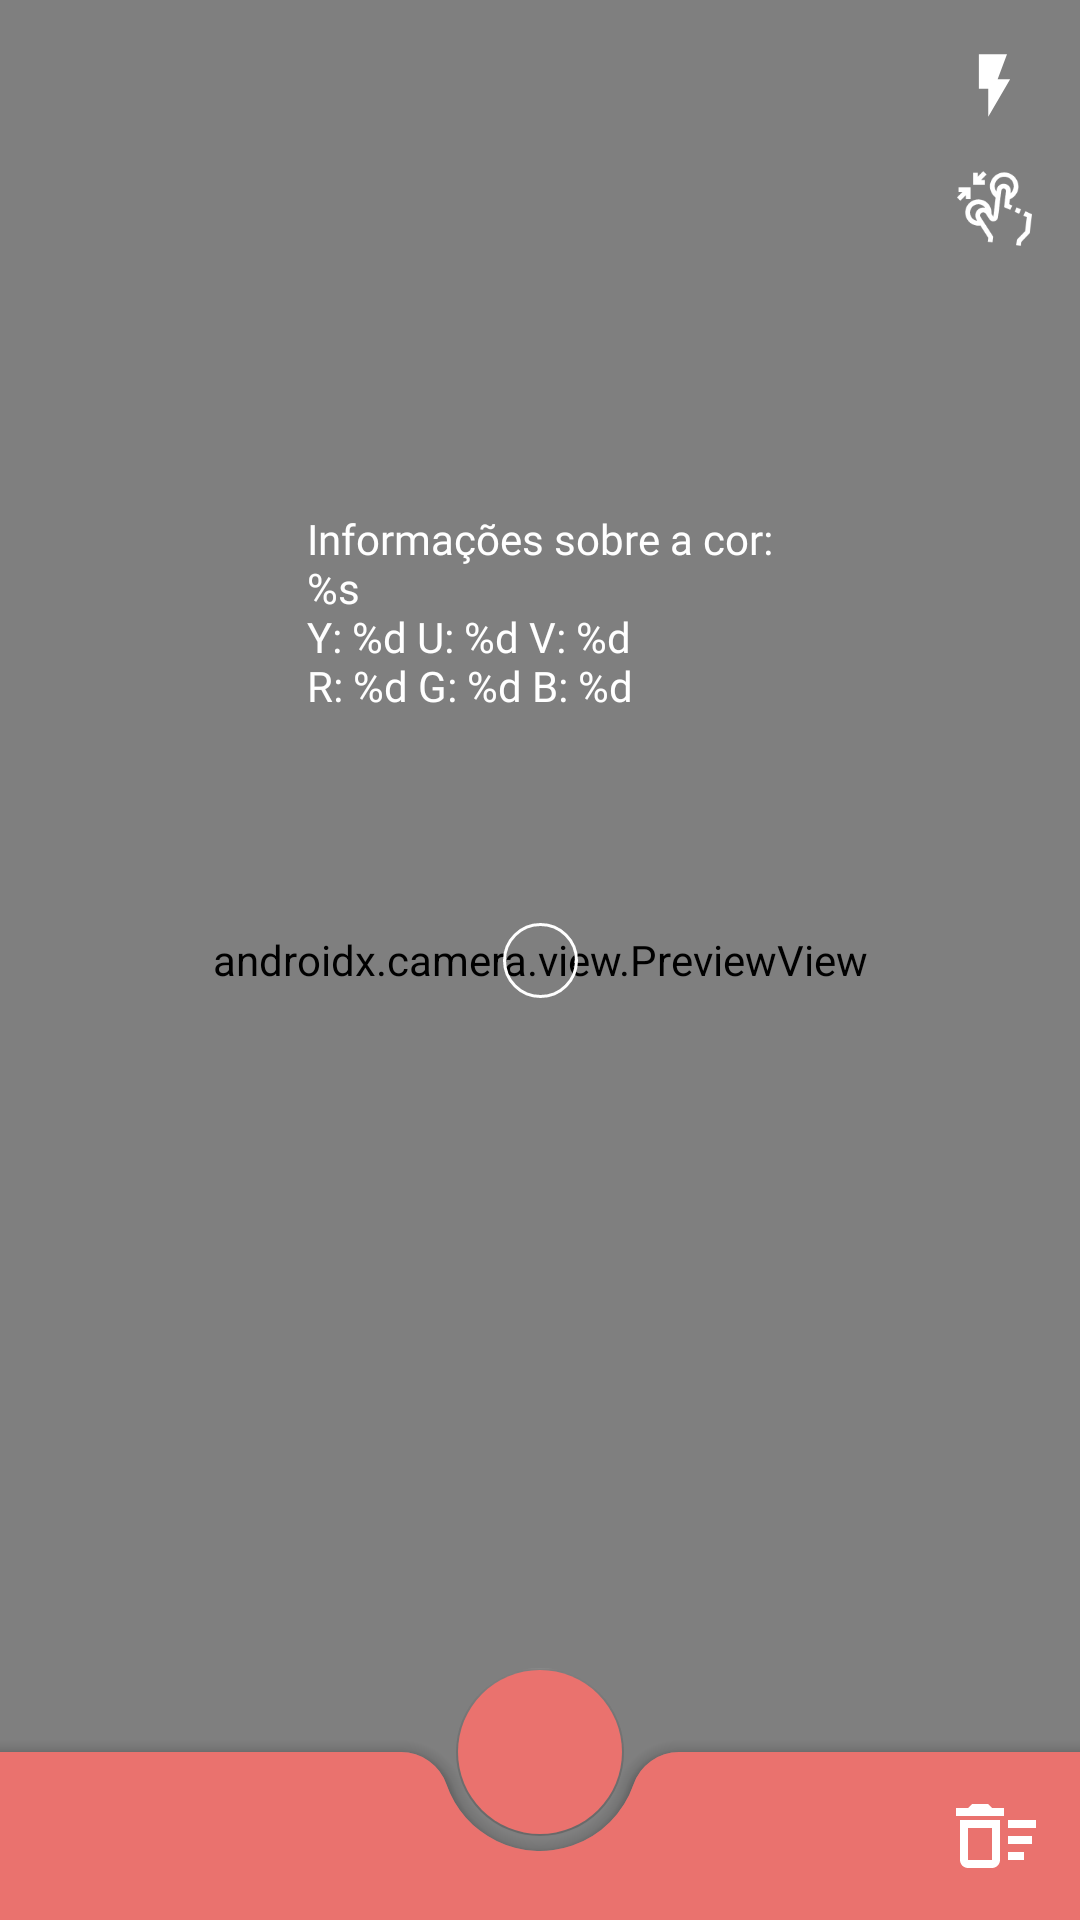

Icon click points for this 1080 x 1920 phone screenshot, format [x,y]:
flash on: [994,85]
pinch: [994,208]
